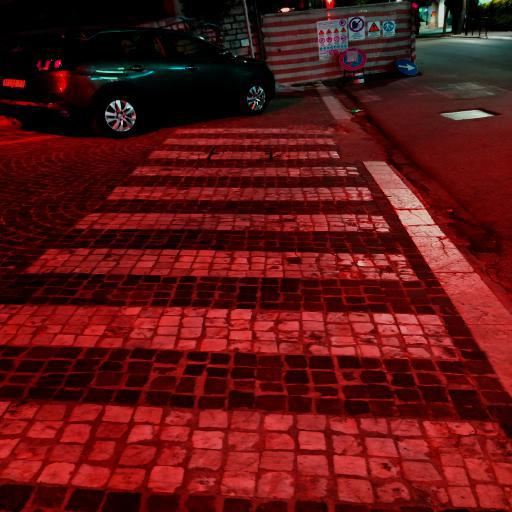crosswalk: (19, 210, 427, 284), (126, 148, 368, 182)
